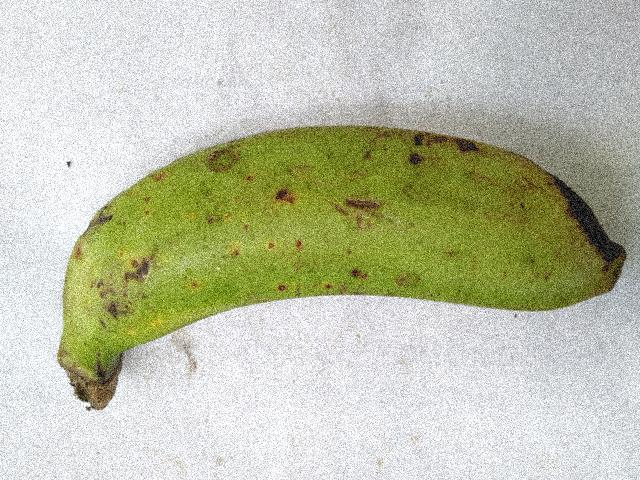unripe: (57, 87, 615, 376)
